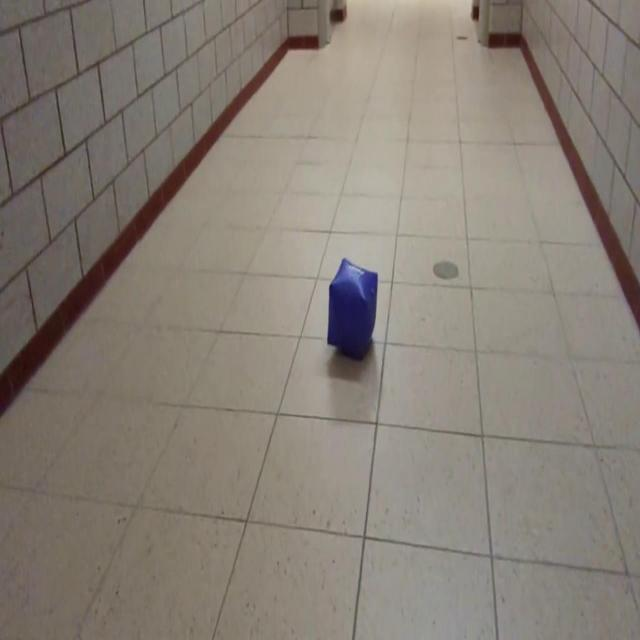frc_cube: (326, 254, 380, 362)
